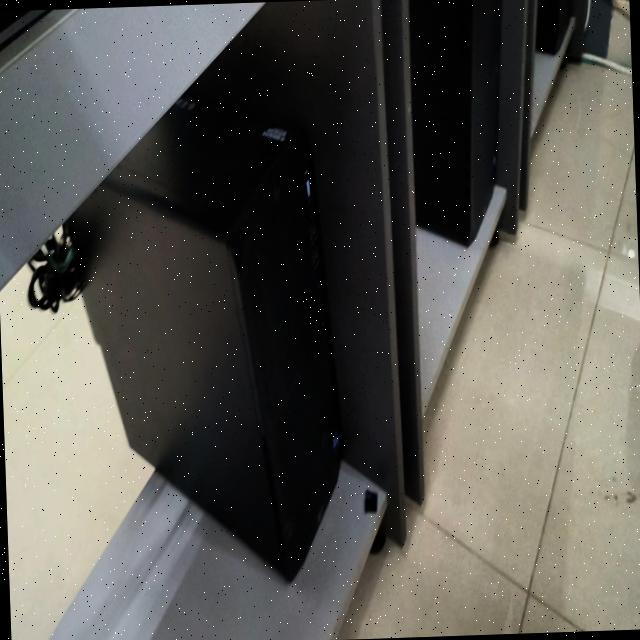Cpu: (69, 95, 341, 579), (409, 0, 502, 245), (535, 0, 572, 54)
Keyboard: (0, 9, 50, 49)
